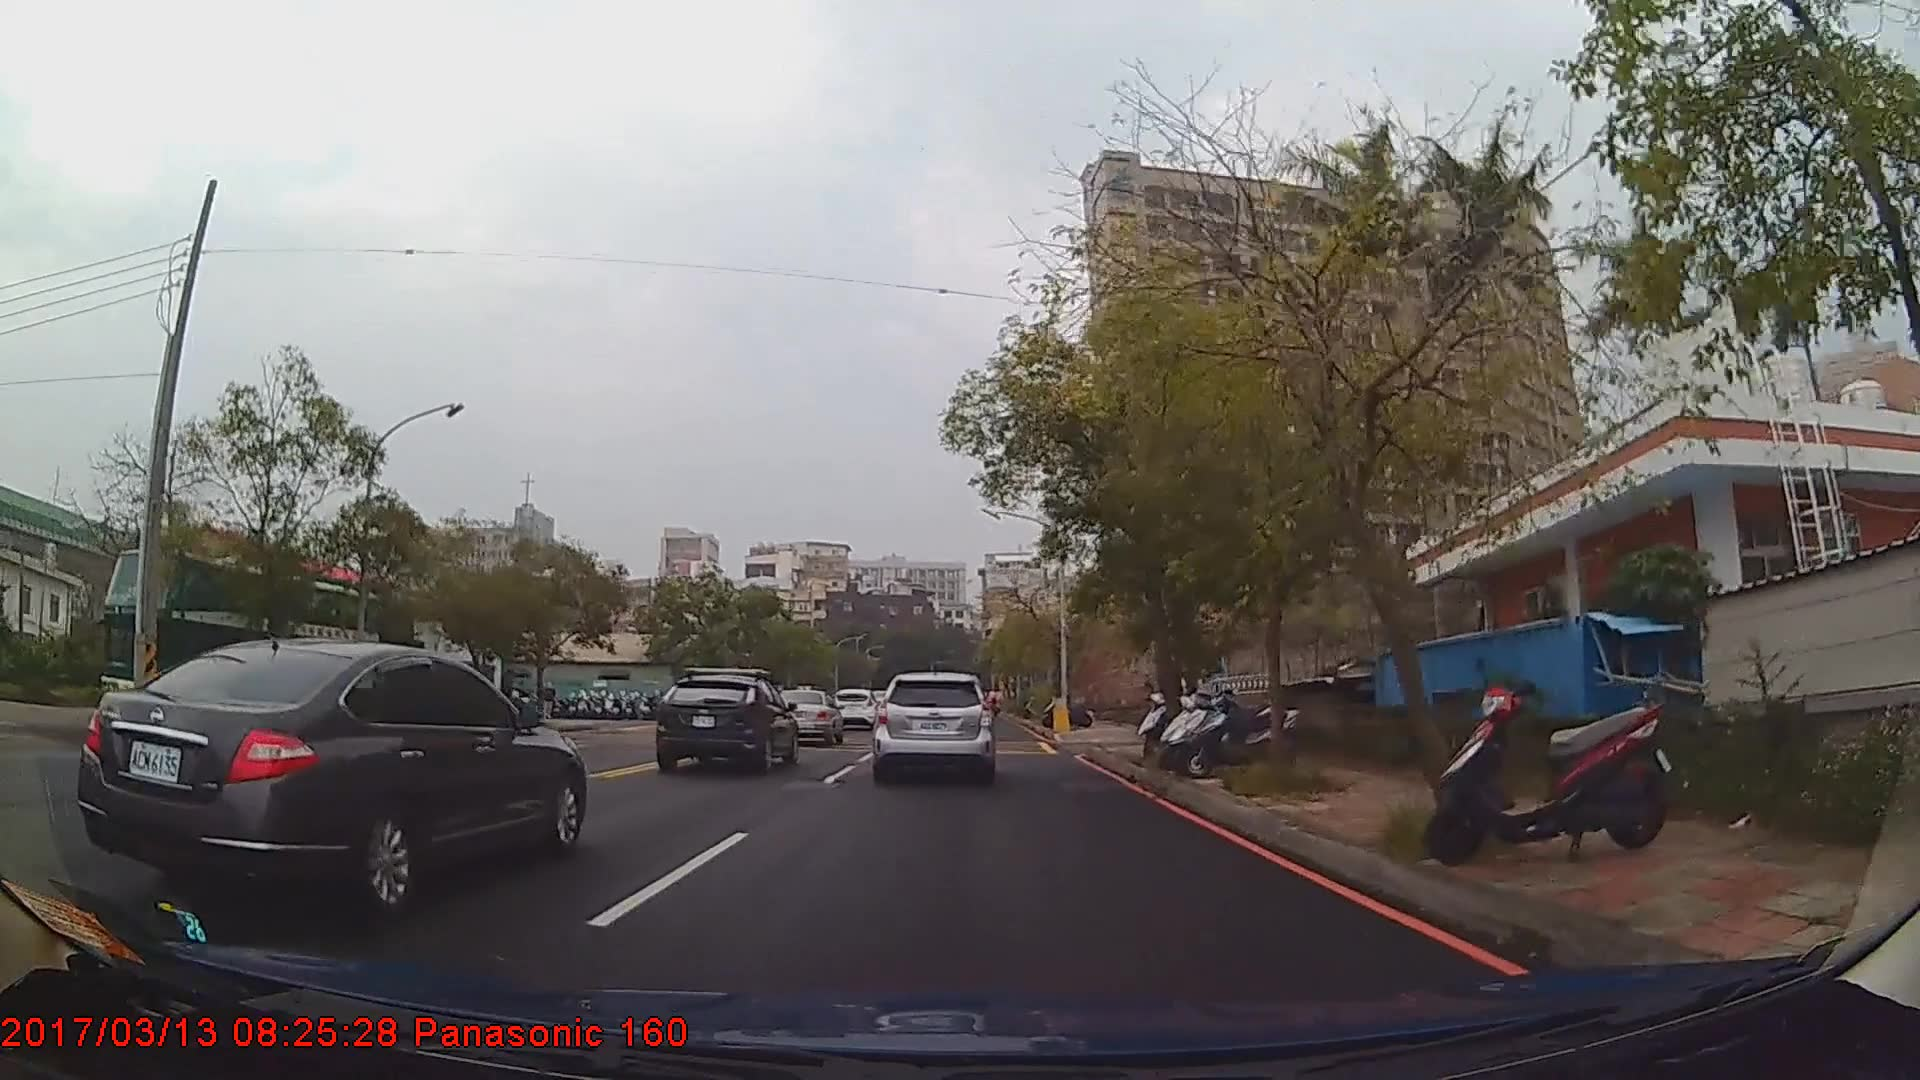vehicle: (74, 636, 584, 914), (88, 542, 415, 745), (651, 673, 799, 777), (872, 671, 994, 783), (771, 687, 841, 746), (829, 687, 878, 731)
